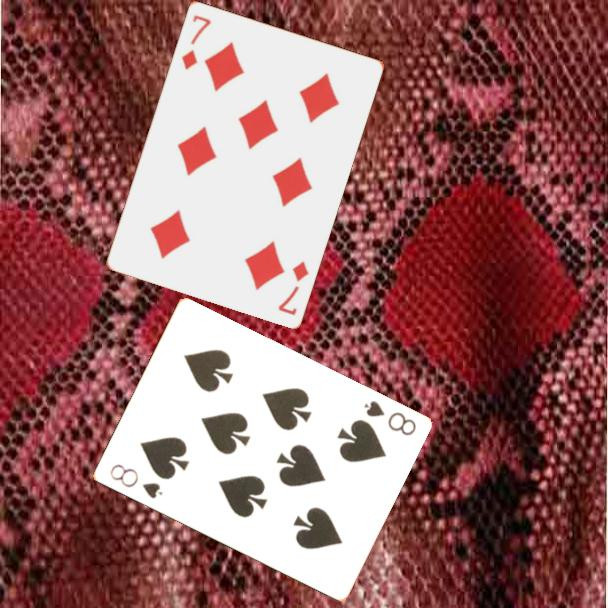d07: (178, 11, 214, 72), (275, 257, 311, 318)
s08: (106, 460, 165, 502), (360, 397, 419, 439)
